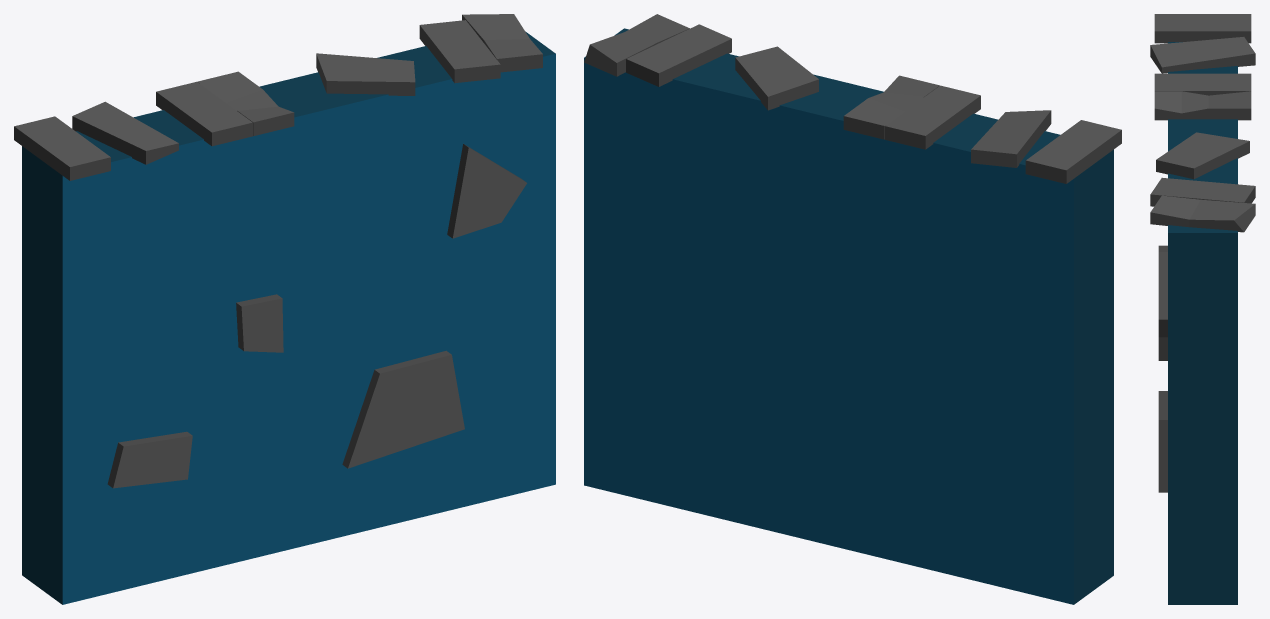
Rendered from wall_type_06.fbx.
3 views of the same model, side by side, from view 1: azimuth 30°, elevation 25°; view 2: azimuth 150°, elevation 25°; view 3: azimuth 270°, elevation 25° (orthographic). The views are drawn at different scales.
Visible parts, largest first — view 1: wall_type_06; view 2: wall_type_06; view 3: wall_type_06.
Part boxes in pixels (x1=…): wall_type_06: x1=14, y1=14, x2=555, y2=604; wall_type_06: x1=584, y1=14, x2=1121, y2=604; wall_type_06: x1=1150, y1=14, x2=1255, y2=604.
Size of the model in its own units: 156 by 134 by 33.27.
